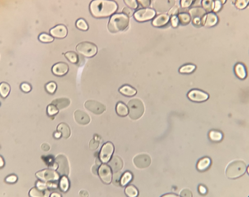araruta: (186, 88, 210, 103), (51, 61, 70, 77), (49, 24, 69, 39), (196, 155, 212, 173), (118, 84, 138, 97), (178, 62, 197, 75), (44, 80, 58, 96), (75, 18, 90, 32), (208, 130, 224, 142)
